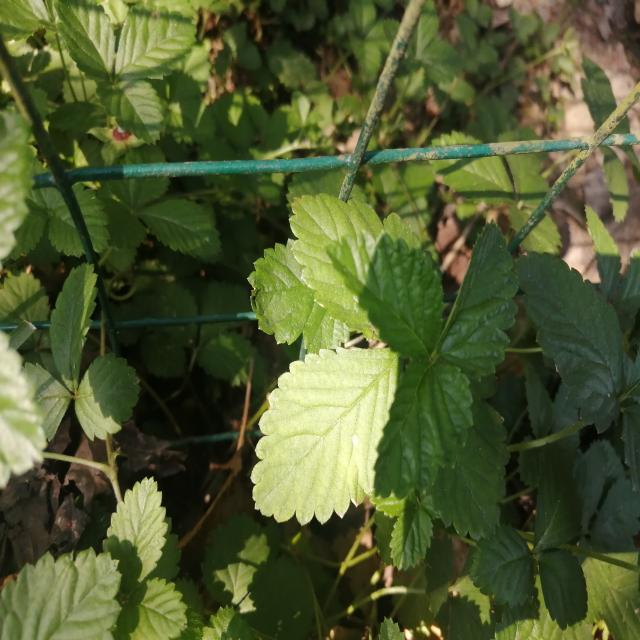Mock_strawberry: (236, 197, 520, 521)
